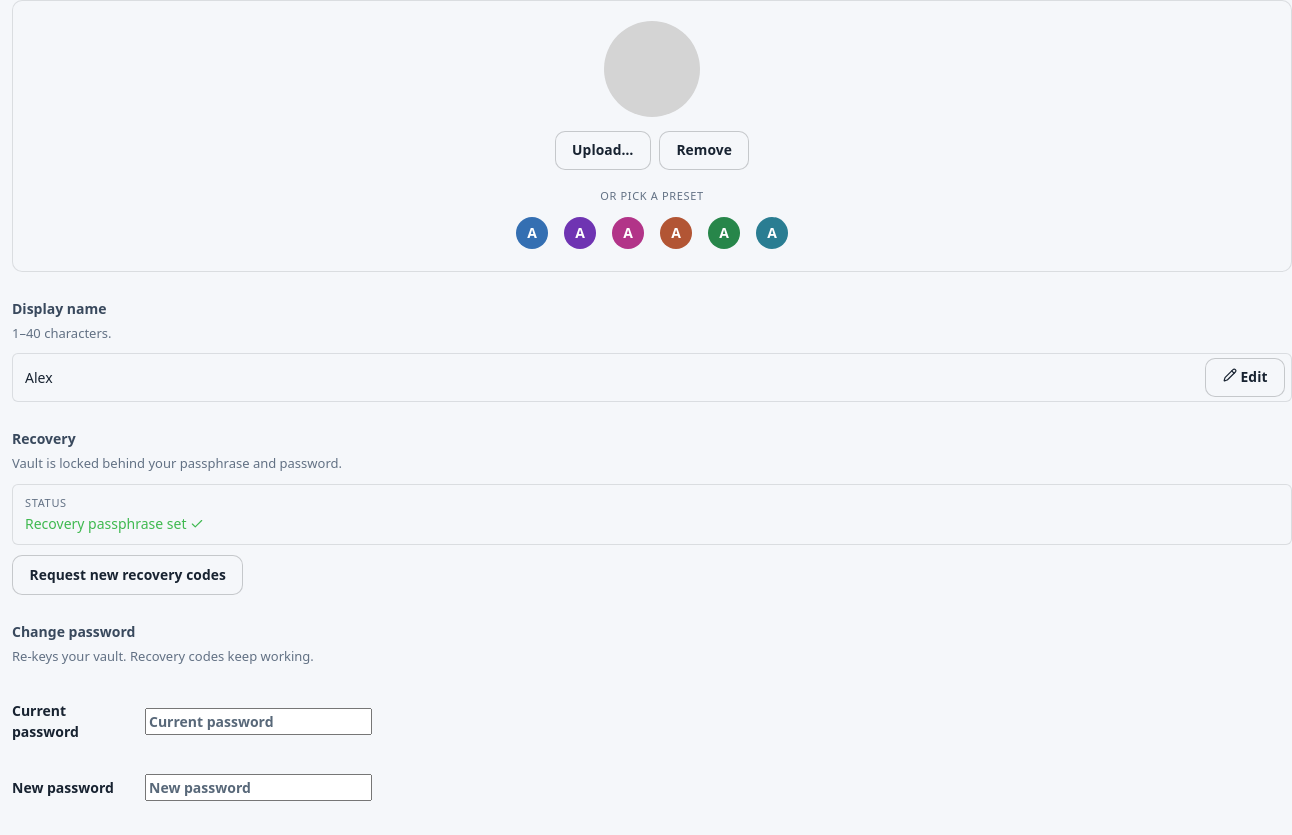
Test case: Personal settings workflows › keeps an avatar and shows an actionable error when removal cannot be saved
This screenshot has width=1292, height=835.
Step 1. Click the button "Remove" → (704, 151), box [659,131,749,170]
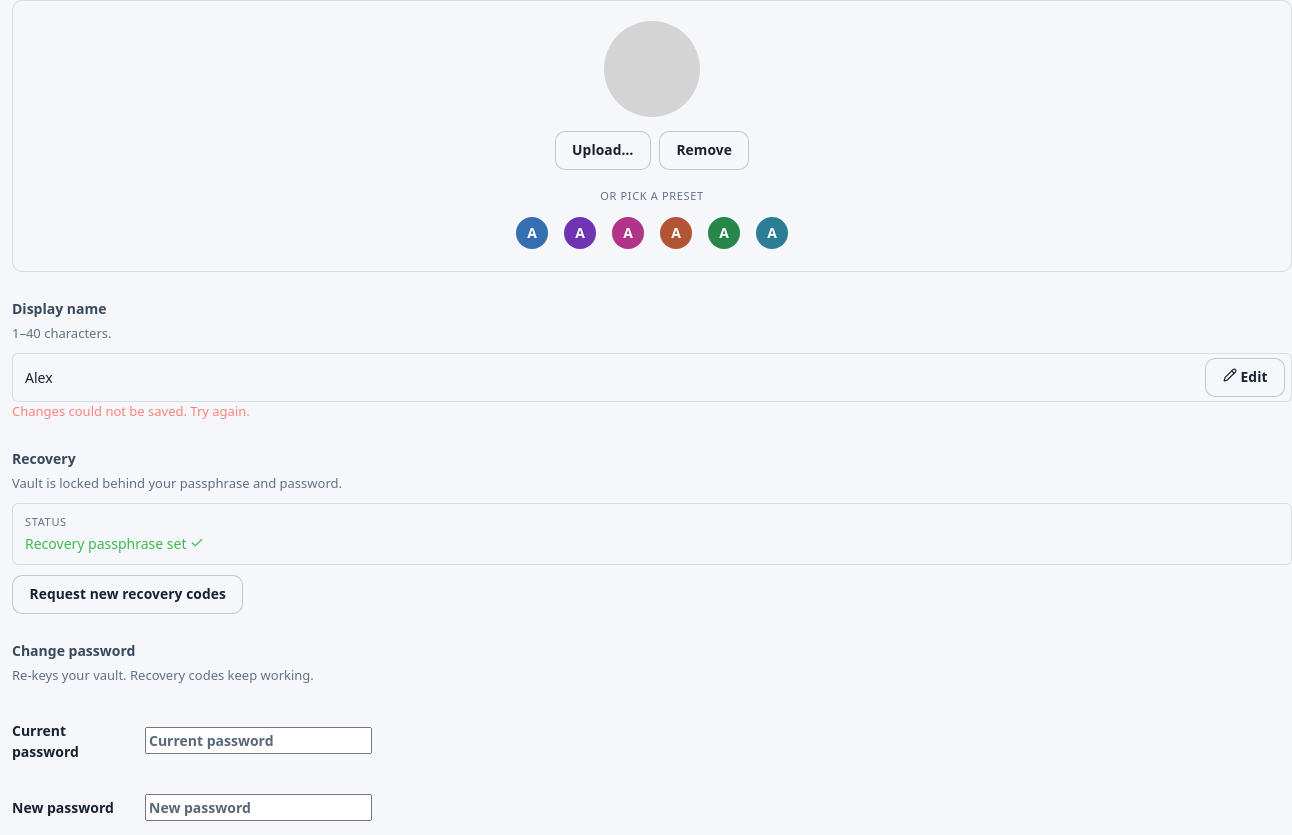
Expected: the message shows "Changes could not be saved", [12,402,250,420]
